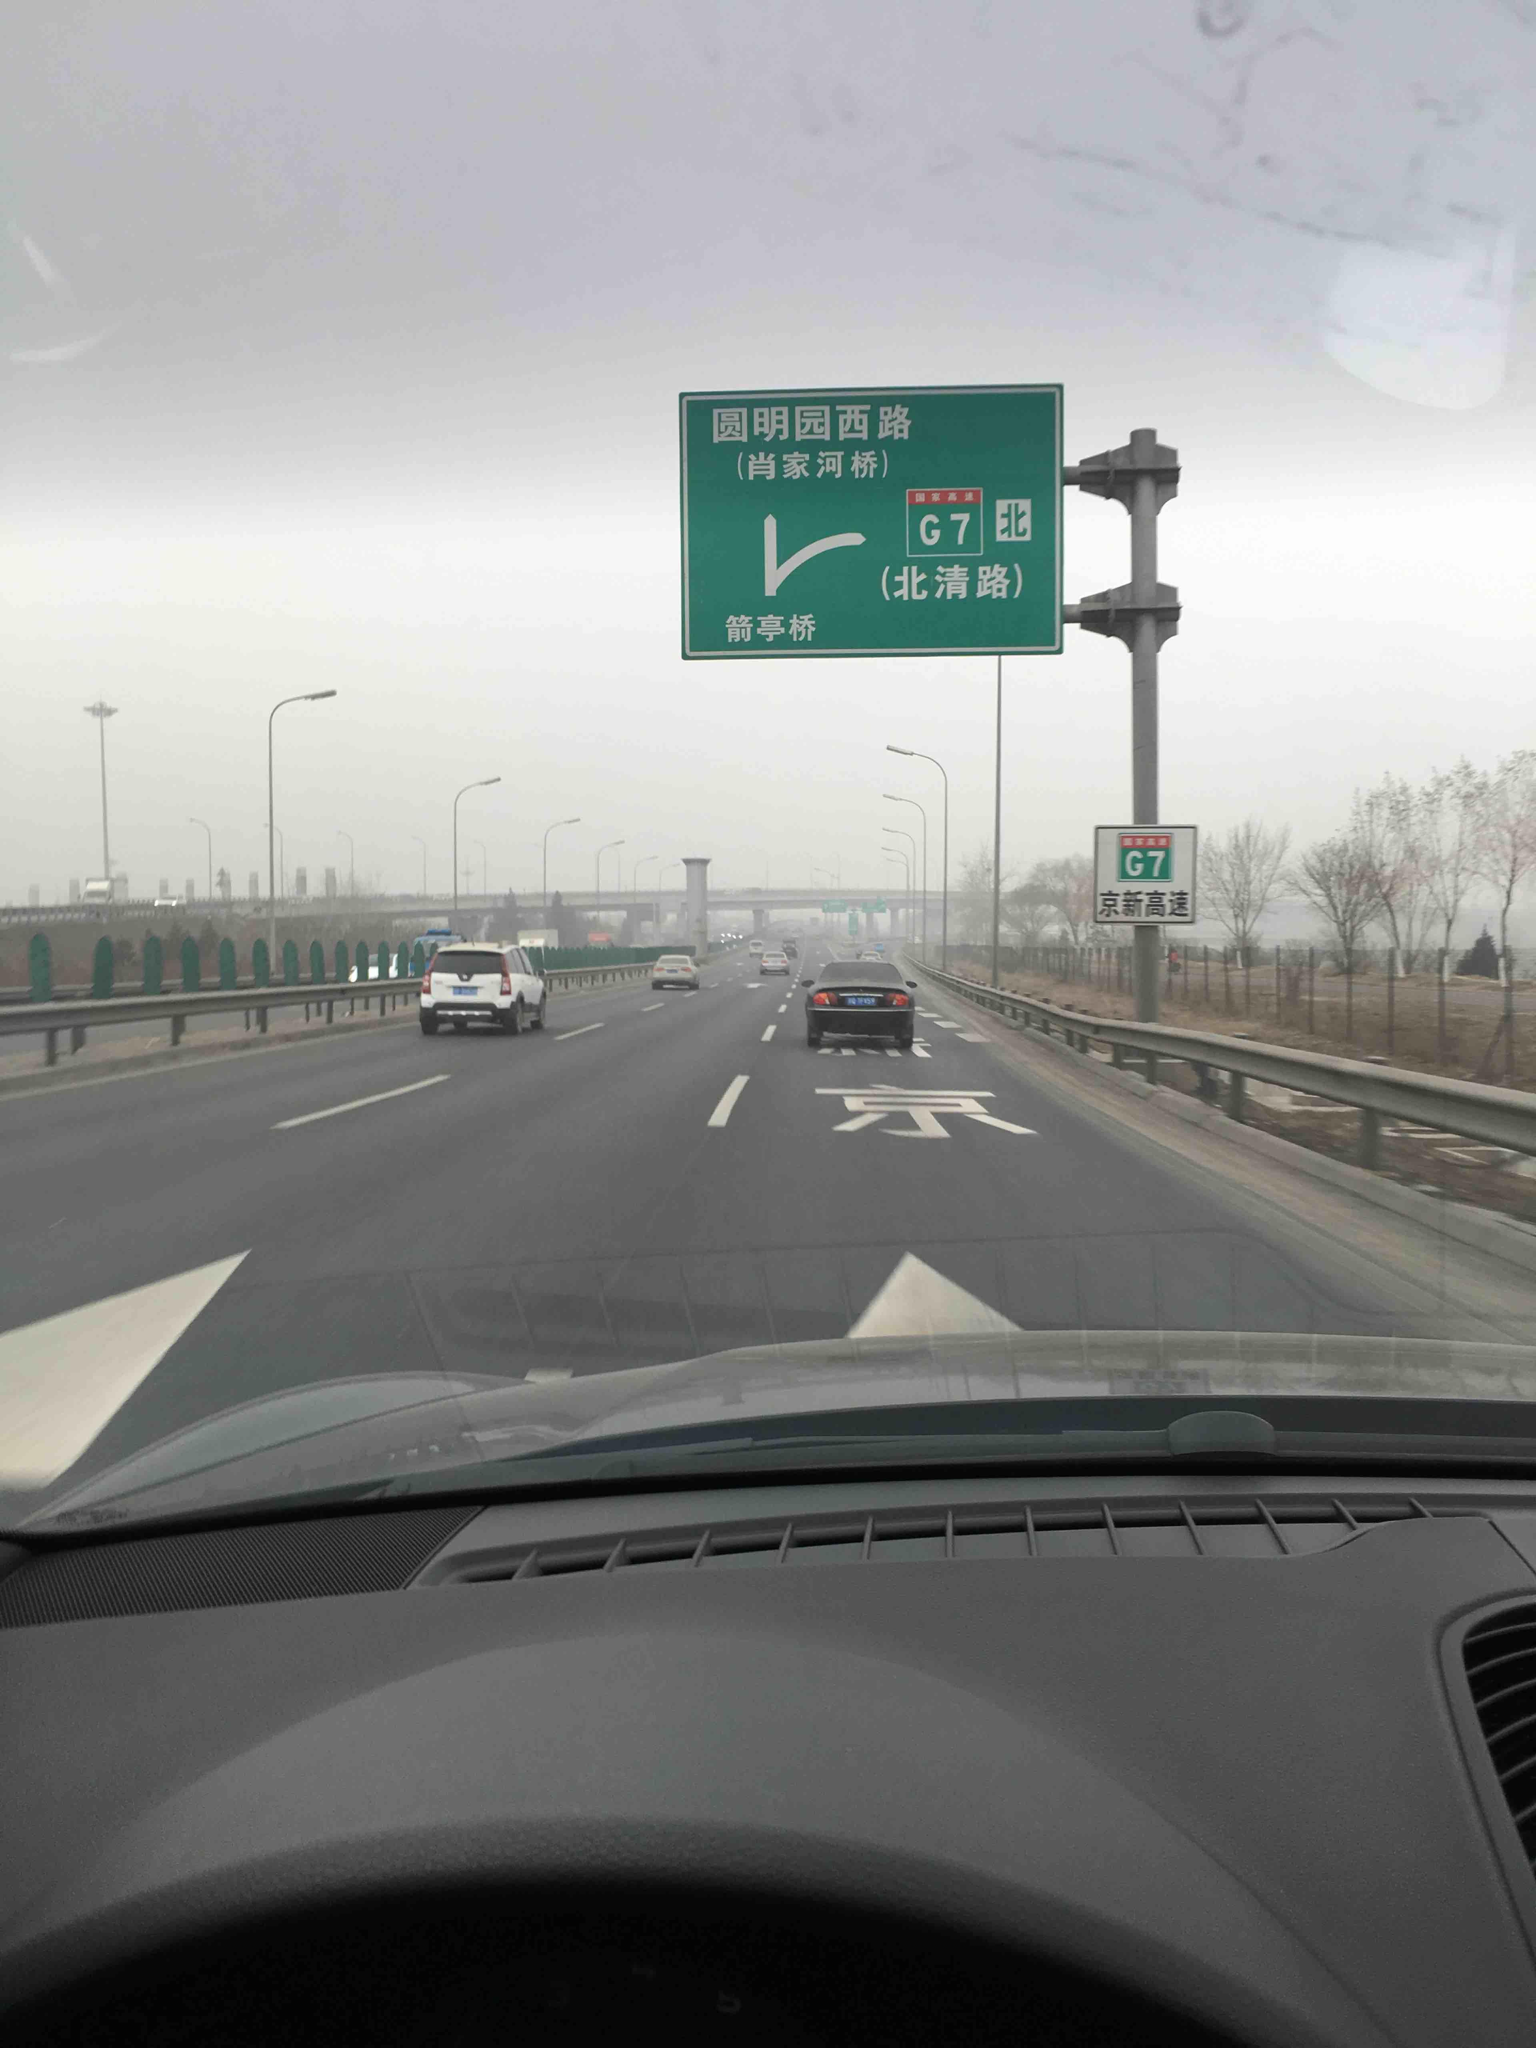bus: (408, 927, 473, 998)
car: (418, 935, 549, 1035), (800, 959, 918, 1048), (347, 951, 418, 993), (650, 953, 700, 990), (758, 951, 792, 976), (857, 950, 884, 966), (778, 942, 799, 959), (749, 940, 766, 958), (871, 942, 884, 955), (907, 935, 921, 947), (789, 934, 800, 942)
